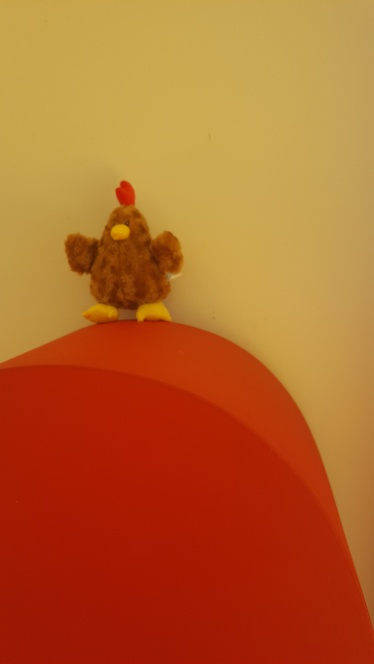chicken_front: (65, 180, 185, 322)
